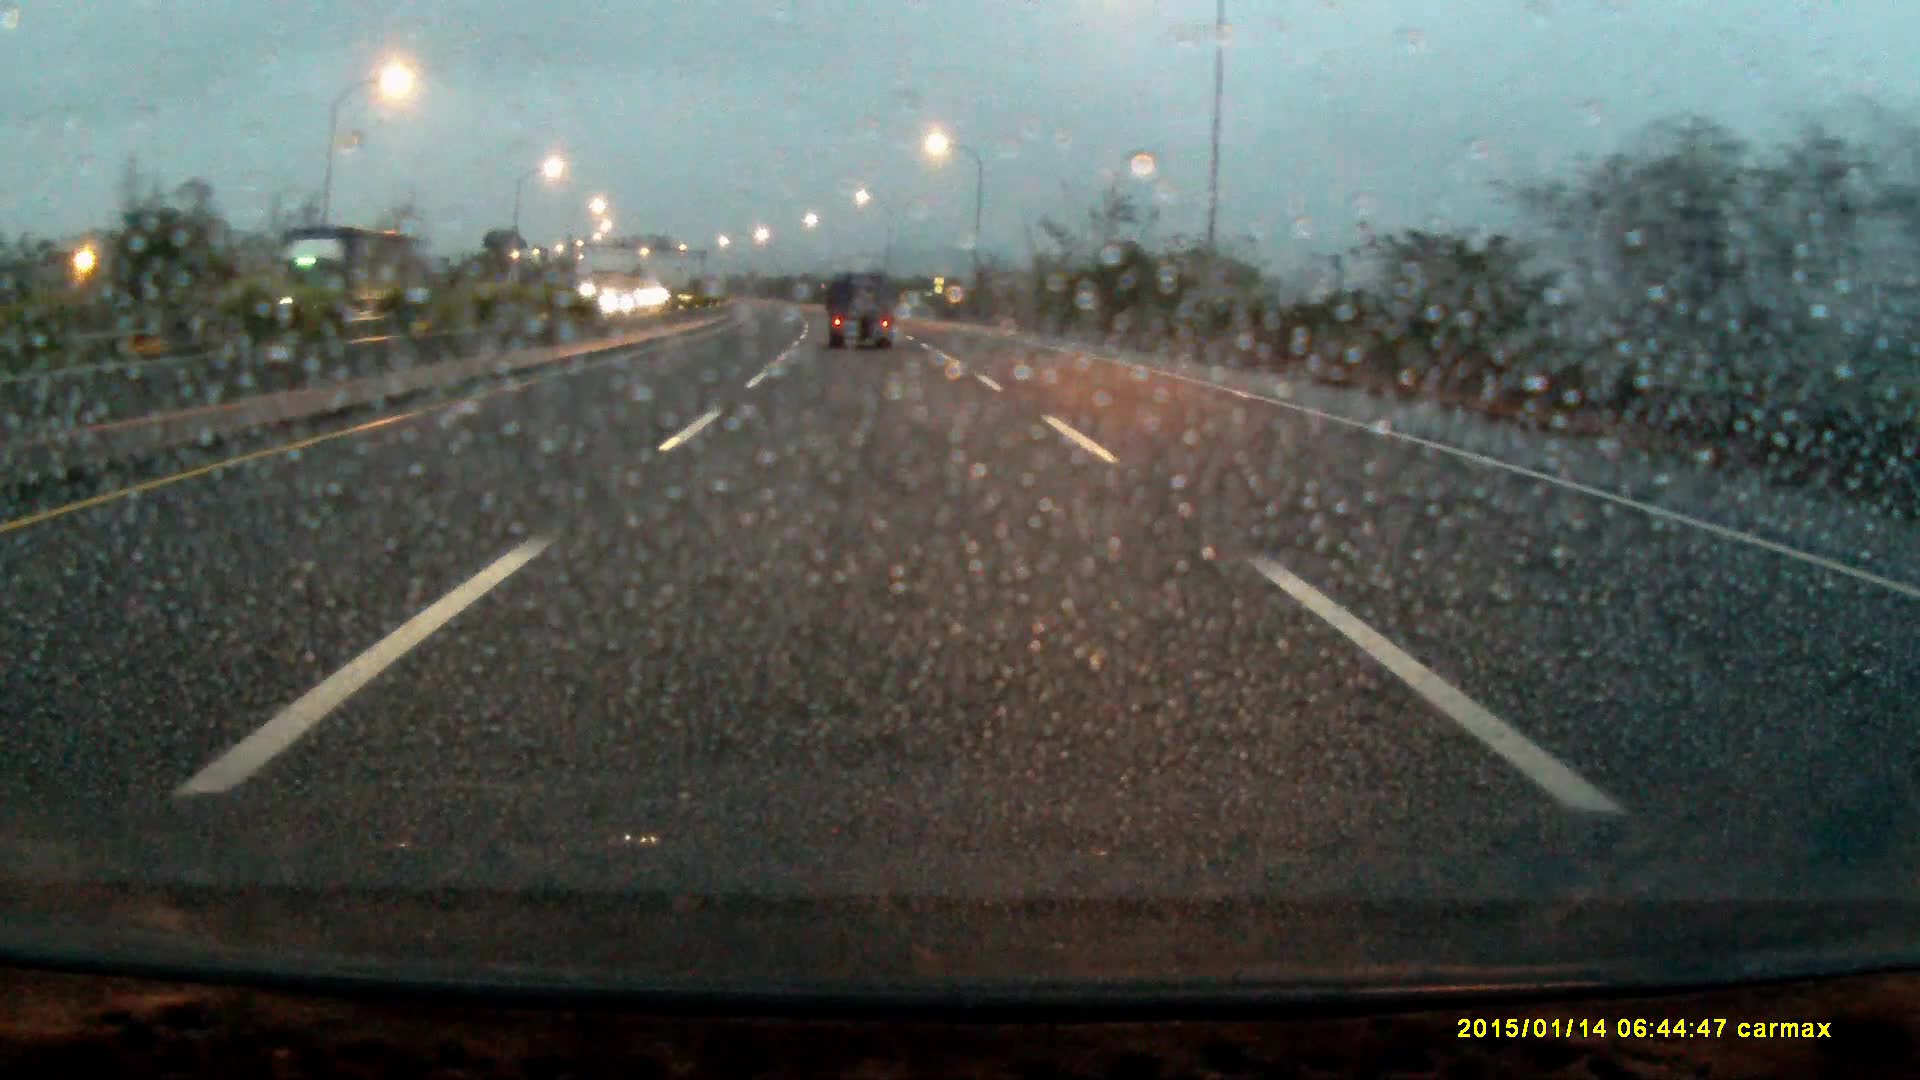vehicle: (249, 225, 411, 342), (825, 276, 899, 349), (605, 290, 647, 313)
